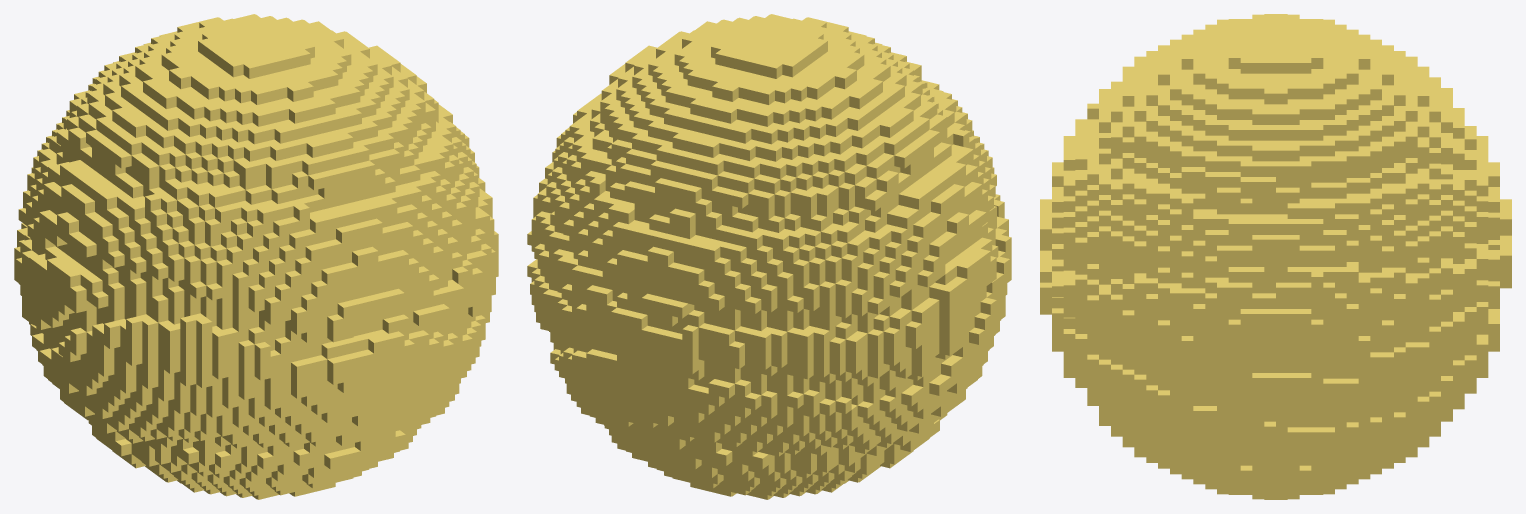
File: Ana_Amarela#f9e074.dae
3 renders of one model, left to right at view 1: azimuth 30°, elevation 25°; view 2: azimuth 150°, elevation 25°; view 3: azimuth 270°, elevation 25°, orthographic.
Parts seen in each view (by area): view 1: Ana_Amarela#f9e074-obj.vox.001; view 2: Ana_Amarela#f9e074-obj.vox.001; view 3: Ana_Amarela#f9e074-obj.vox.001.
Boxes of the visible parts, box(x1,y1,x2,y2) form: Ana_Amarela#f9e074-obj.vox.001: box(14, 14, 498, 499); Ana_Amarela#f9e074-obj.vox.001: box(527, 14, 1011, 499); Ana_Amarela#f9e074-obj.vox.001: box(1040, 14, 1511, 499).
Size of the model in its own units: 4 by 4 by 4.
